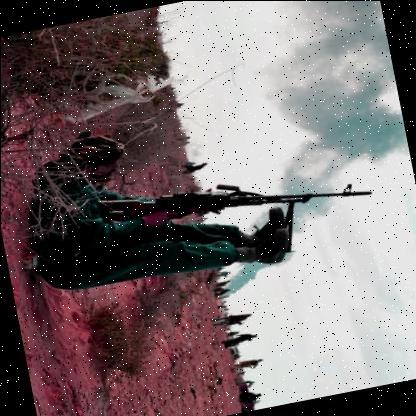rifle: (95, 149, 369, 238)
